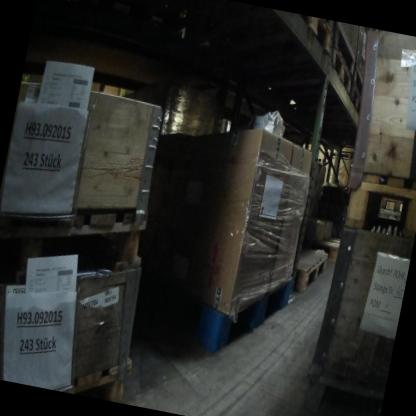pallet: (0, 170, 154, 320), (125, 245, 299, 376), (48, 335, 148, 401), (341, 169, 416, 244), (284, 243, 332, 302), (277, 13, 335, 61), (320, 48, 358, 105), (343, 92, 370, 130), (375, 193, 407, 224)
stillage: (346, 27, 381, 93), (325, 22, 362, 75)
